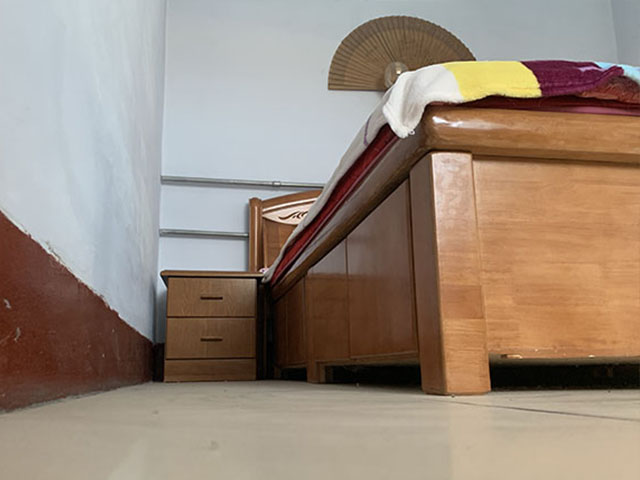bed: (247, 54, 640, 399)
cabinet: (157, 269, 266, 384)
